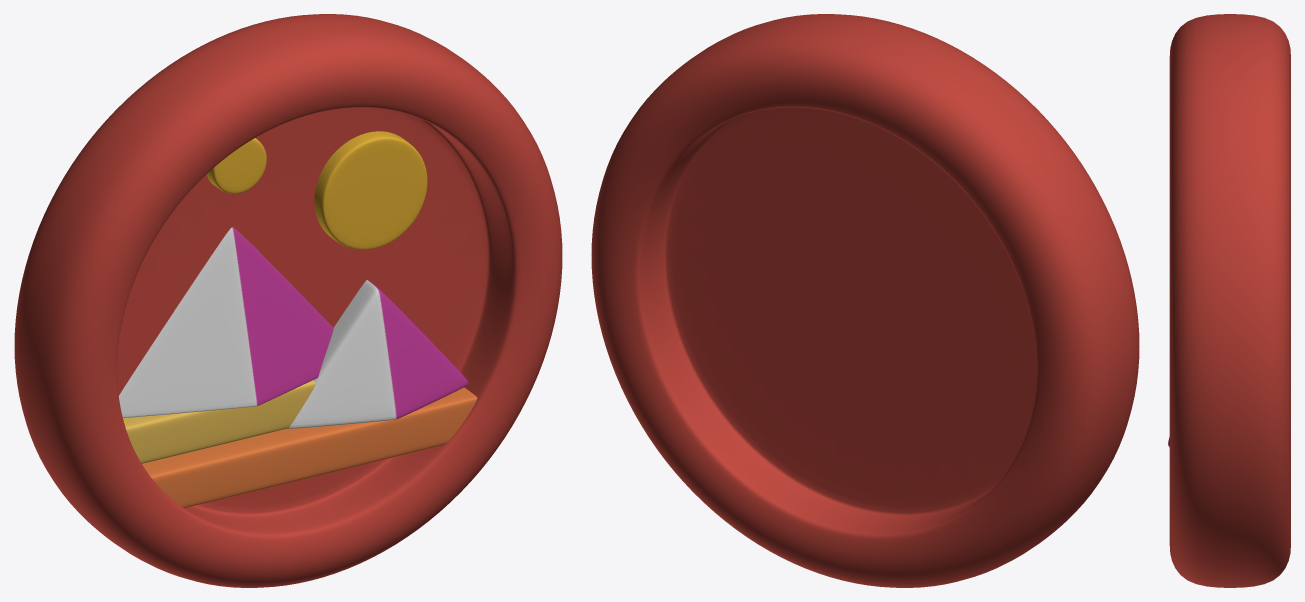
Rendered from Decentraland.glb.
3 views of the same model, side by side, from view 1: azimuth 30°, elevation 25°; view 2: azimuth 150°, elevation 25°; view 3: azimuth 270°, elevation 25° (orthographic). The views are drawn at different scales.
Parts seen in each view (by area): view 1: MANA; view 2: MANA; view 3: MANA.
Boxes of the visible parts, x1=… form: MANA: x1=14, y1=14, x2=562, y2=587; MANA: x1=591, y1=14, x2=1139, y2=587; MANA: x1=1168, y1=14, x2=1290, y2=587.
Size of the model in its own units: 3.11 by 3.11 by 0.6646.
1 material, 1 textured.
